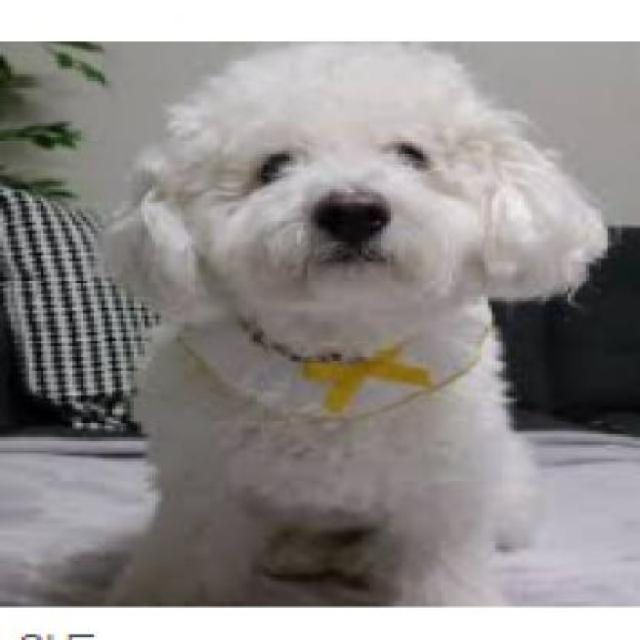Dog: (94, 41, 611, 602)
